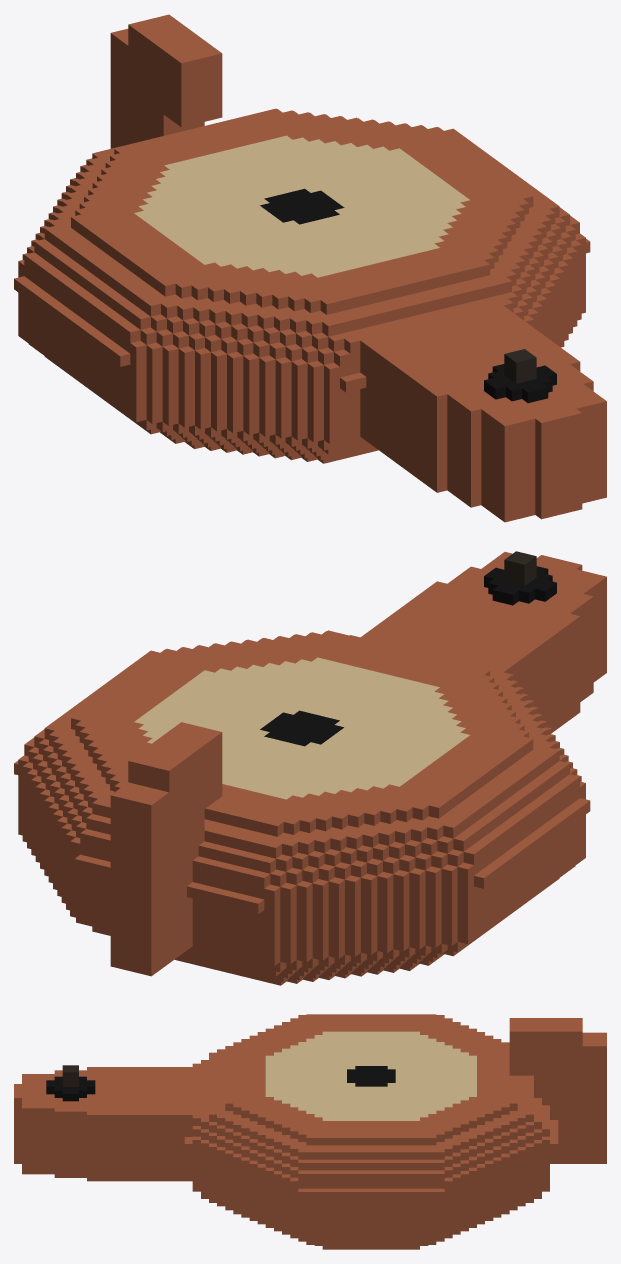
The model's file is oil_lamp_clay.glb.
3 renders of one model, top to bottom at view 1: azimuth 30°, elevation 25°; view 2: azimuth 150°, elevation 25°; view 3: azimuth 270°, elevation 25°, orthographic. The views are drawn at different scales.
Parts seen in each view (by area): view 1: oil_lamp_clay:compound; view 2: oil_lamp_clay:compound; view 3: oil_lamp_clay:compound.
Part boxes in pixels (x1,y1,x2,y2): oil_lamp_clay:compound: (14, 14, 606, 522); oil_lamp_clay:compound: (14, 551, 606, 985); oil_lamp_clay:compound: (14, 1014, 606, 1249).
Size of the model in its own units: 0.092 by 0.048 by 0.146.
